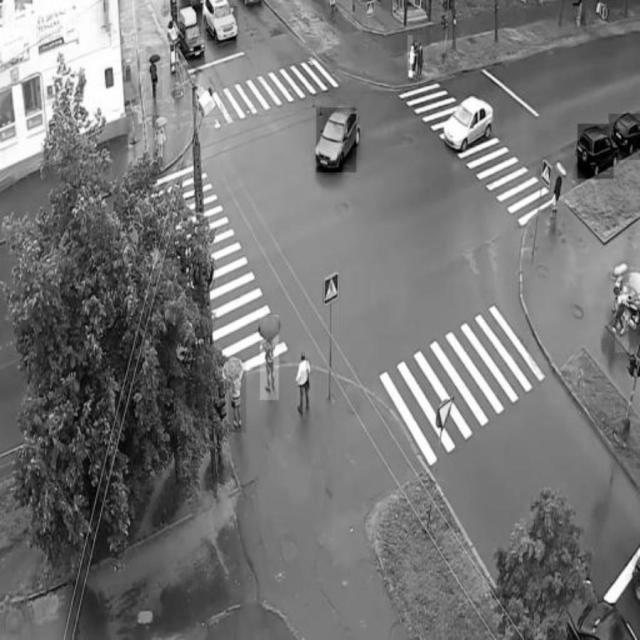person: (260, 315, 278, 399), (297, 342, 314, 420), (229, 360, 246, 432), (615, 282, 629, 352), (552, 152, 564, 224), (147, 46, 163, 100), (413, 35, 428, 90), (611, 267, 626, 317), (153, 115, 167, 166), (407, 35, 417, 77)
vehicle: (442, 99, 498, 146), (317, 109, 357, 173), (578, 124, 614, 179), (176, 7, 202, 61), (609, 114, 639, 160), (207, 6, 237, 41)
